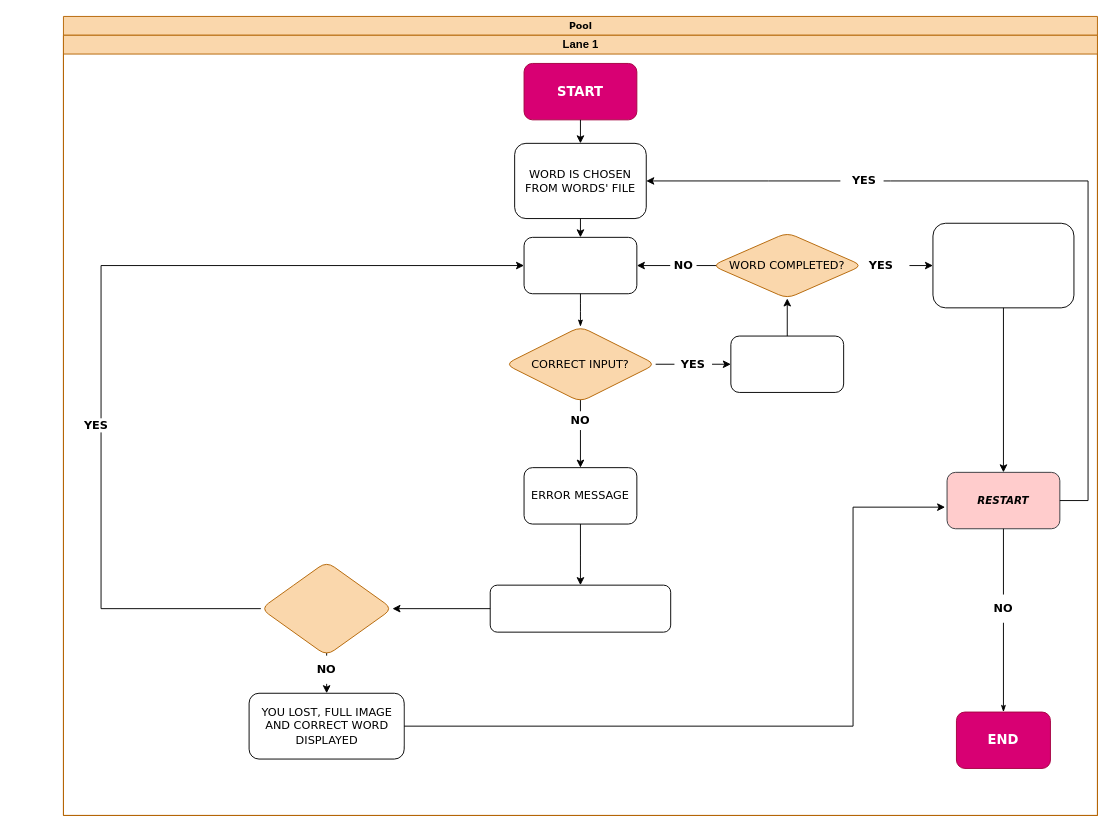
This 1114x832 diagram has some shape labels left out. The centre of each missing label's shape, as x and y in pixels:
"ADD CORRECT LETTER TO THE TERMINAL" goes at (x=787, y=363).
"ANY ATTEMPTS LEFT?" goes at (x=326, y=608).
"REQUEST INPUT" goes at (x=580, y=265).
"SHOW COMPLETED WORD AND CONGRATULATIONS MESSAGE" goes at (x=1003, y=265).
"UPDATE # of ATTEMPTS LEFT" goes at (x=580, y=608).
